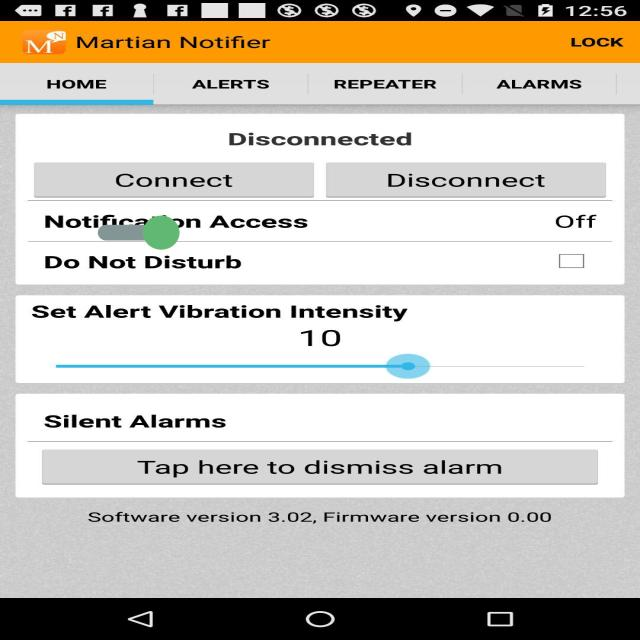social proof: (98, 194, 180, 270)
